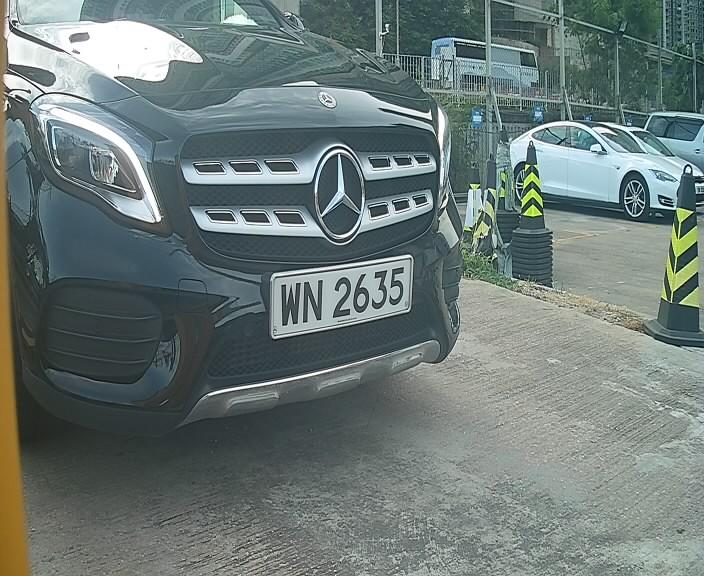License Plate: (261, 253, 415, 345)
